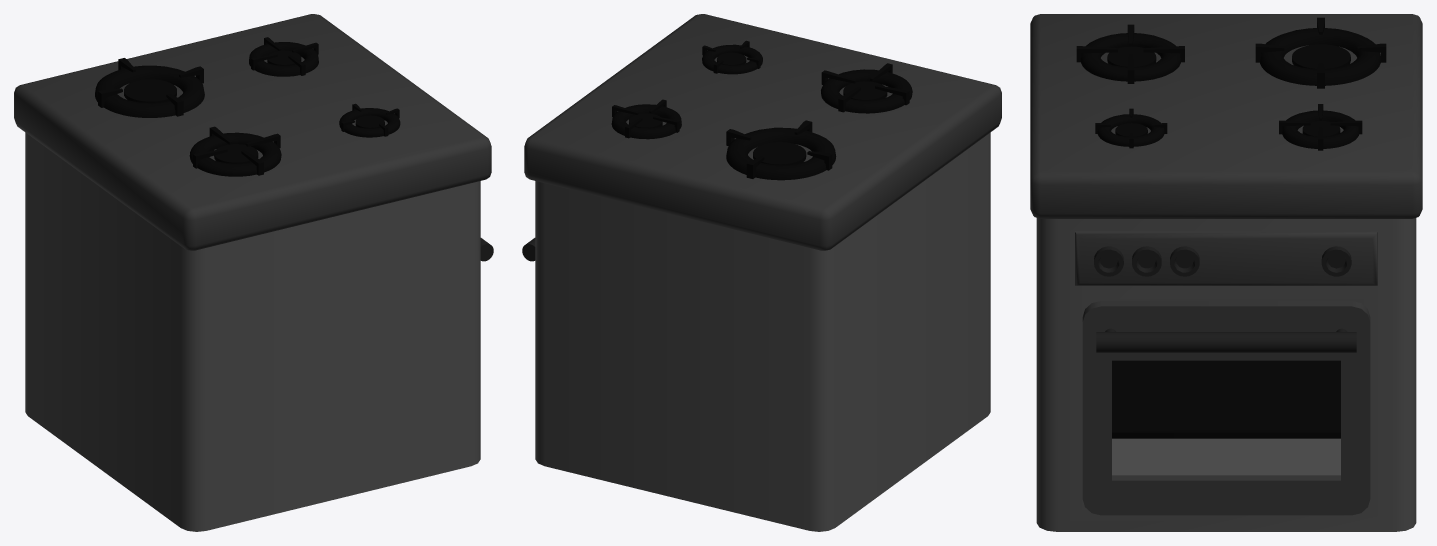
File: furniture_electronics_210037.glb
3 views of the same model, side by side, from view 1: azimuth 30°, elevation 25°; view 2: azimuth 150°, elevation 25°; view 3: azimuth 270°, elevation 25° (orthographic). The views are drawn at different scales.
Parts seen in each view (by area): view 1: furniture_electronics_210037; view 2: furniture_electronics_210037; view 3: furniture_electronics_210037.
Boxes of the visible parts, bbox=[...] form: furniture_electronics_210037: bbox=[14, 14, 493, 531]; furniture_electronics_210037: bbox=[522, 14, 1001, 531]; furniture_electronics_210037: bbox=[1030, 14, 1422, 531].
Size of the model in its own units: 0.8564 by 0.8258 by 0.7842.
Materials: 1 (1 with a texture image).
